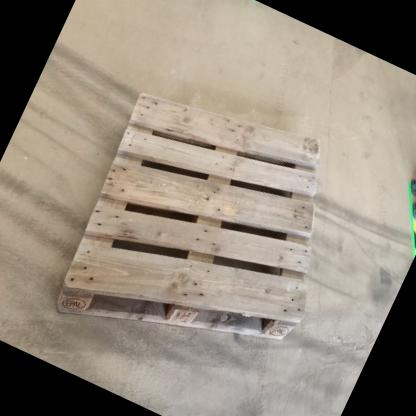BoxFace: (51, 88, 326, 349)
